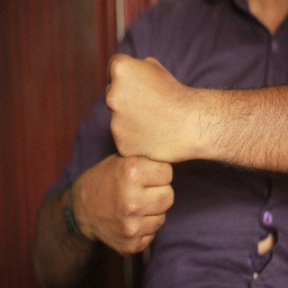G: (73, 44, 193, 259)
